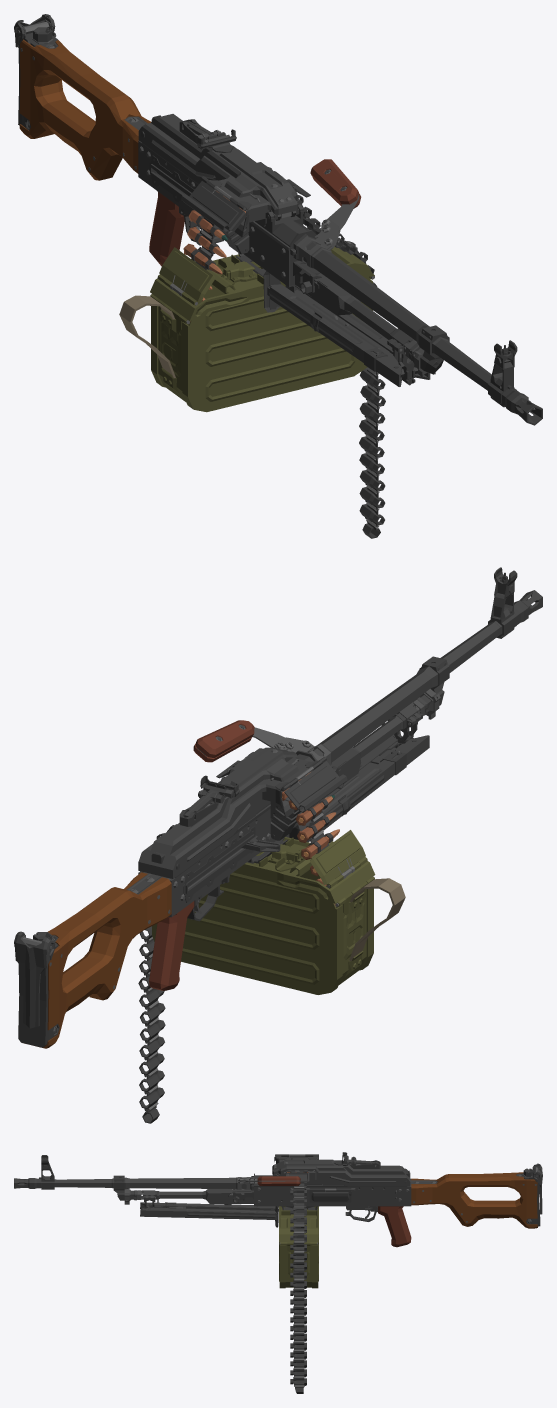
The model's file is low-poly_pkm.glb.
3 views of the same model, one above another, from view 1: azimuth 30°, elevation 25°; view 2: azimuth 150°, elevation 25°; view 3: azimuth 270°, elevation 25° (orthographic). The views are drawn at different scales.
Visible parts, largest first — view 1: boxbody_62, stock_0, topcover_43, barrel_15, receiver_16, lid_60, rightleg_53, gastube_17, trunnion_26, coverrightdust_36, carryhandle_7, feedlid_56 (+7 smaller); view 2: boxbody_62, stock_0, topcover_43, receiver_16, barrel_15, lid_60, rightleg_53, grip_6, stock_pk_zid_wood_std_LOD0.002_1, carryhandle_7, coverrightdust_36, feedlid_56 (+5 smaller); view 3: stock_0, receiver_16, topcover_43, barrel_15, leftleg_52, boxbody_62, gastube_17, lid_60, grip_6, rightleg_53, ejectioncover_18, carryhandle_7 (+3 smaller).
Part boxes in pixels (x1,y1,x2,y2): boxbody_62: (119, 276, 372, 412); stock_0: (18, 17, 150, 180); topcover_43: (138, 114, 299, 219); barrel_15: (293, 234, 491, 390); receiver_16: (125, 116, 308, 287); lid_60: (150, 246, 374, 324); rightleg_53: (263, 271, 401, 386); gastube_17: (295, 273, 416, 357); trunnion_26: (255, 204, 321, 293); coverrightdust_36: (181, 180, 246, 232); carryhandle_7: (310, 159, 361, 231); feedlid_56: (157, 247, 214, 305); boxbody_62: (152, 869, 405, 994); stock_0: (18, 872, 171, 1048); topcover_43: (138, 747, 326, 878); receiver_16: (126, 804, 298, 921); barrel_15: (307, 621, 502, 764); lid_60: (234, 837, 375, 907); rightleg_53: (285, 735, 429, 842); grip_6: (149, 901, 194, 990); stock_pk_zid_wood_std_LOD0.002_1: (14, 931, 55, 1028); carryhandle_7: (193, 720, 284, 762); coverrightdust_36: (284, 761, 347, 812); feedlid_56: (310, 830, 367, 888); stock_0: (411, 1165, 540, 1228); receiver_16: (254, 1178, 437, 1221); topcover_43: (272, 1152, 410, 1186); barrel_15: (54, 1176, 253, 1190); leftleg_52: (140, 1206, 278, 1227); boxbody_62: (279, 1207, 318, 1288); gastube_17: (137, 1189, 253, 1203); lid_60: (278, 1206, 318, 1244); grip_6: (378, 1206, 411, 1247); rightleg_53: (140, 1202, 278, 1210); ejectioncover_18: (309, 1188, 351, 1202); carryhandle_7: (245, 1176, 300, 1185).
Bounding box in the file's own units: 0.3374 × 0.5048 × 1.16.
